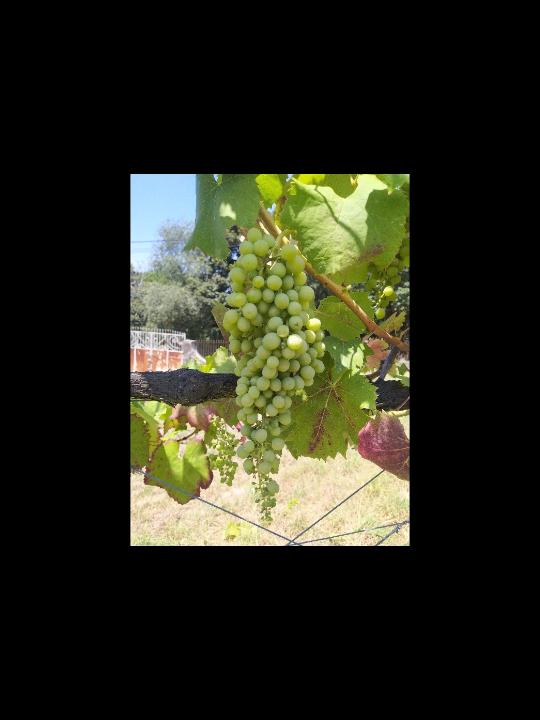grape: (222, 226, 326, 524), (207, 416, 241, 489)
